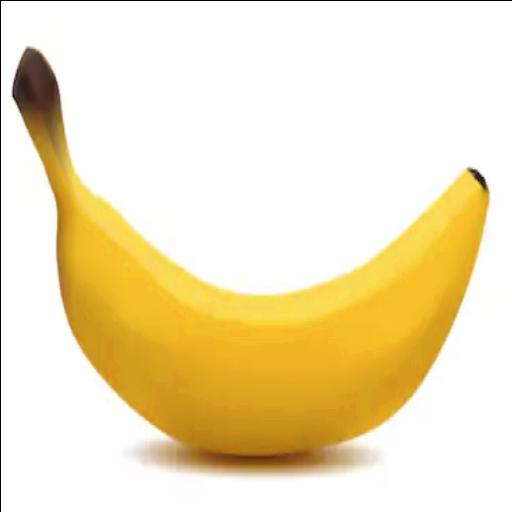banana: (13, 48, 489, 455)
